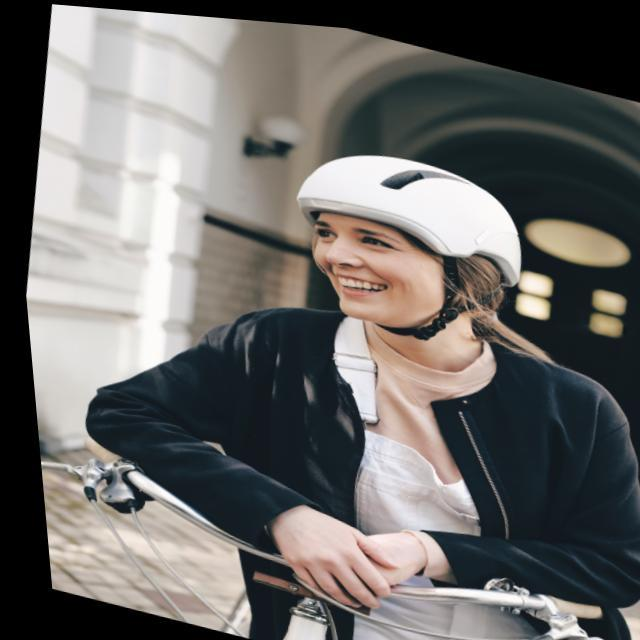Helmet: (291, 142, 524, 347)
